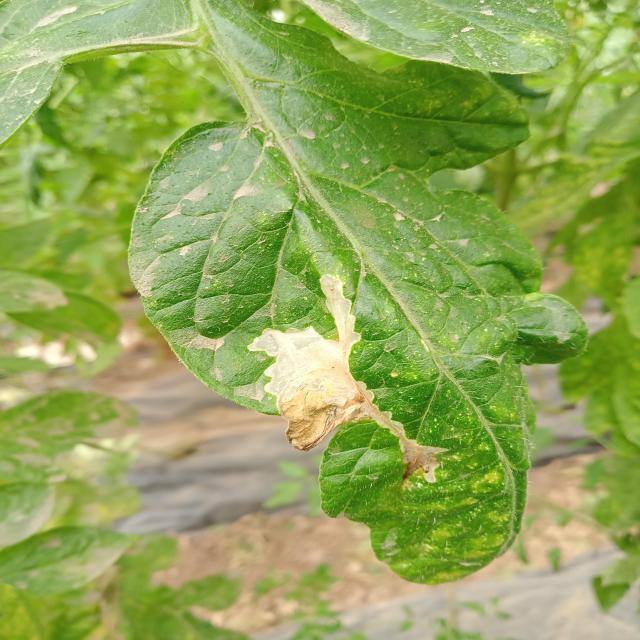Tuta absoluta: (222, 268, 471, 537)
